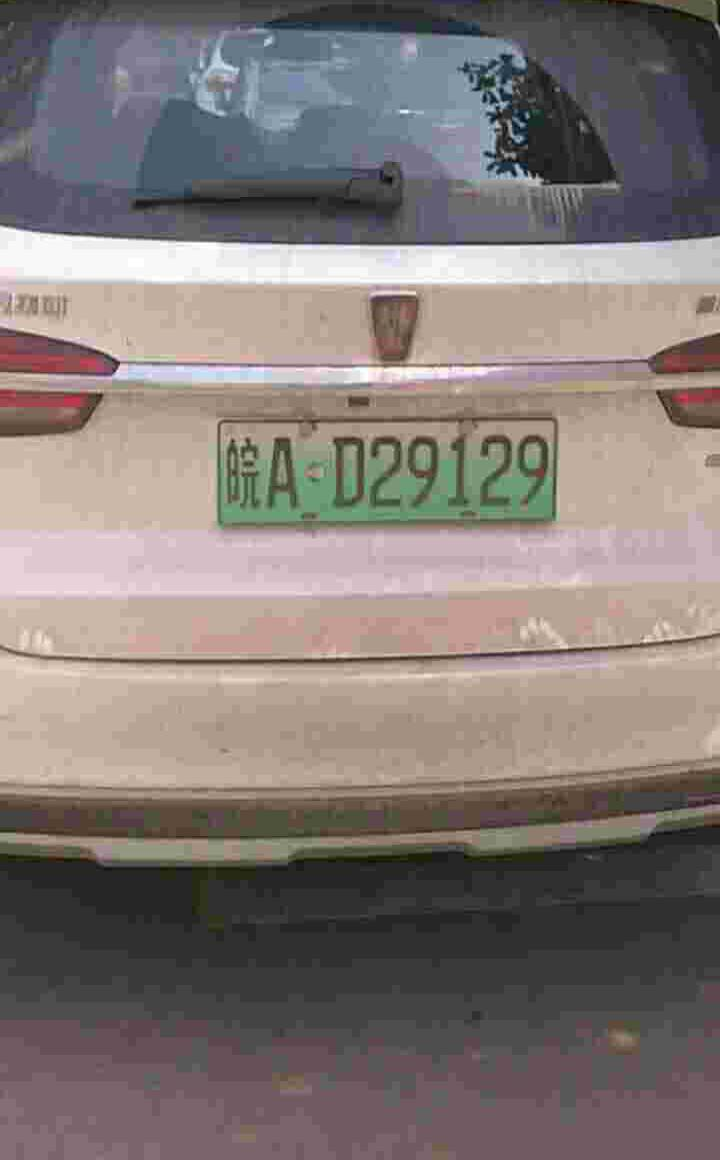car_id: (214, 414, 556, 525)
